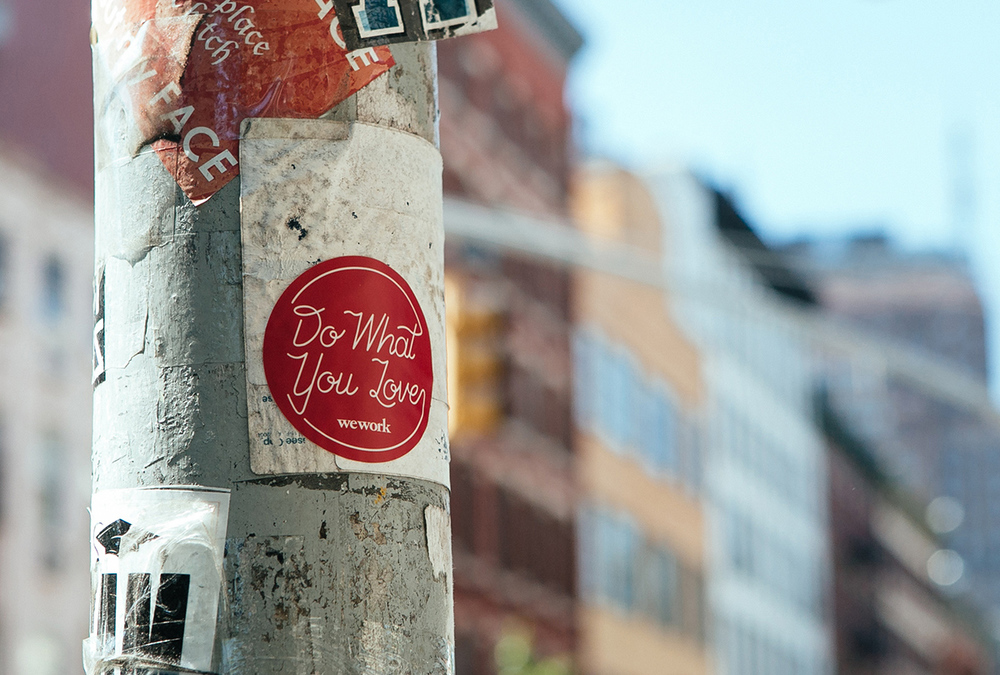wework: (338, 415, 394, 435)
